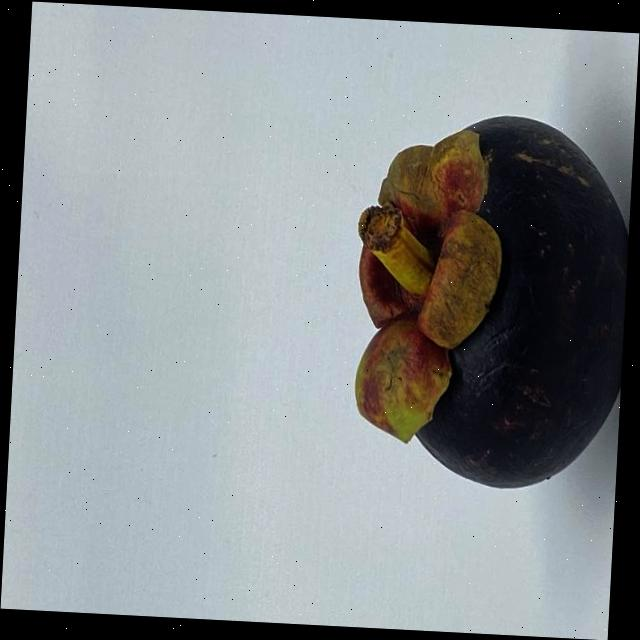mangosteen: (335, 88, 636, 530)
